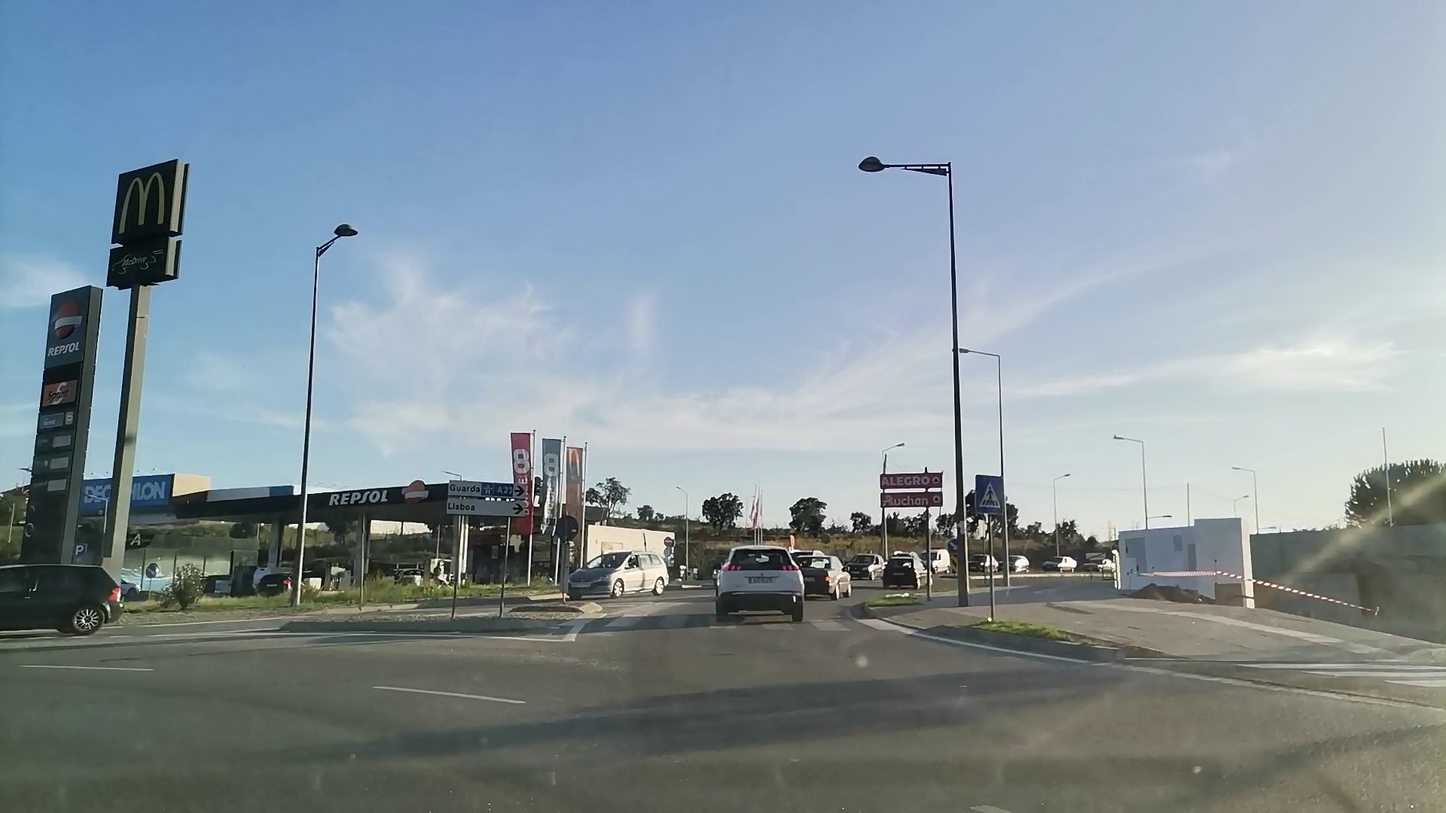Stairs: (590, 614, 908, 636)
